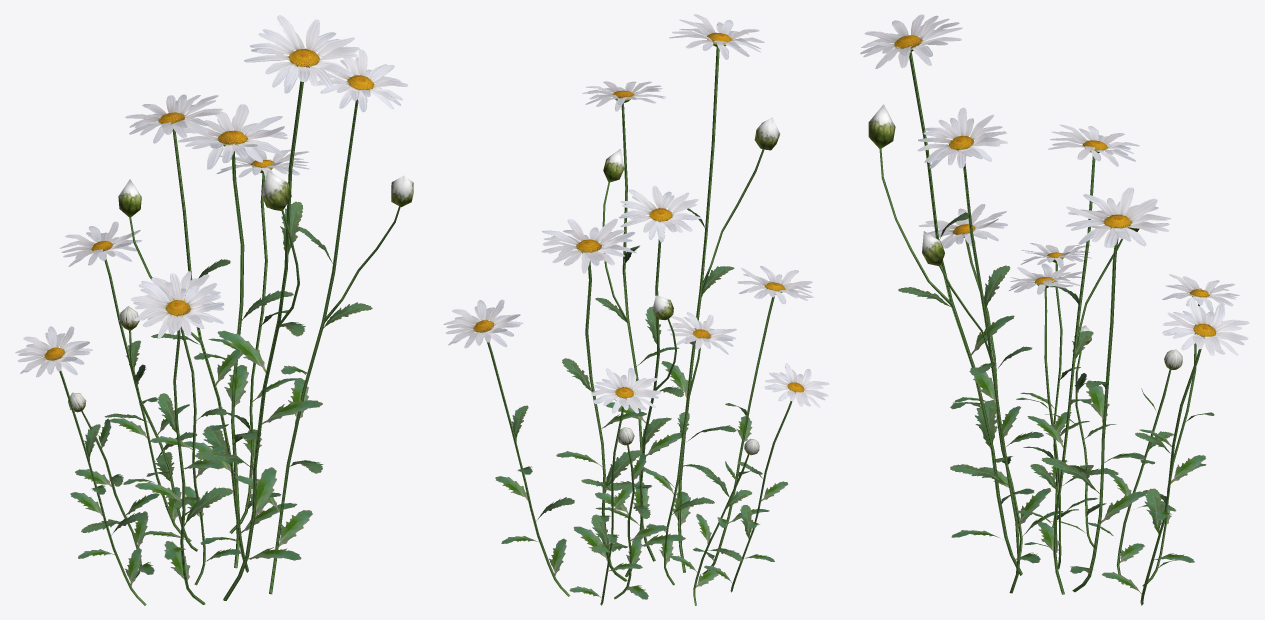
Rendered from Daisy-group2.fbx.
The picture shows the model from 3 angles, left to right: view 1: azimuth 30°, elevation 25°; view 2: azimuth 150°, elevation 25°; view 3: azimuth 270°, elevation 25°; orthographic projection. The views are drawn at different scales.
Visible parts, largest first — view 1: Daisy-group2_LOD0; view 2: Daisy-group2_LOD0; view 3: Daisy-group2_LOD0.
Part boxes in pixels (<box>): Daisy-group2_LOD0: <box>15,15,413,605</box>; Daisy-group2_LOD0: <box>443,14,829,605</box>; Daisy-group2_LOD0: <box>860,14,1249,605</box>.
Size of what is drawn, in the model's own units: 72.88 by 115 by 72.59.
